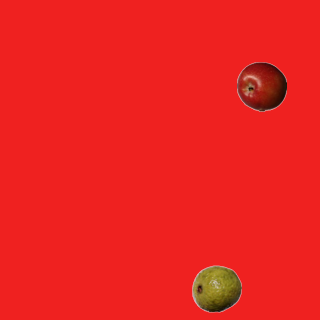Apple Braeburn: (236, 61, 286, 111)
Guava: (191, 263, 241, 313)
